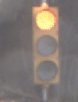Red: (25, 4, 67, 94)
